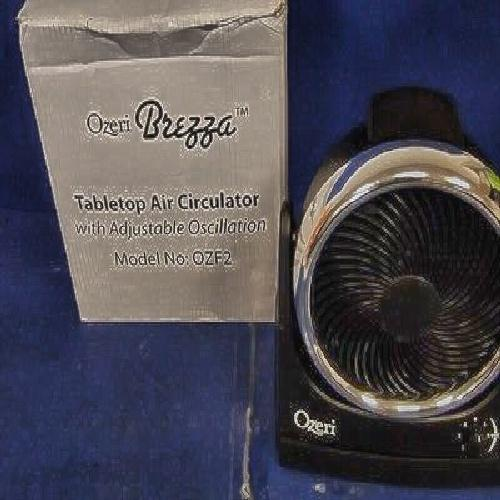fan: (289, 137, 500, 449)
